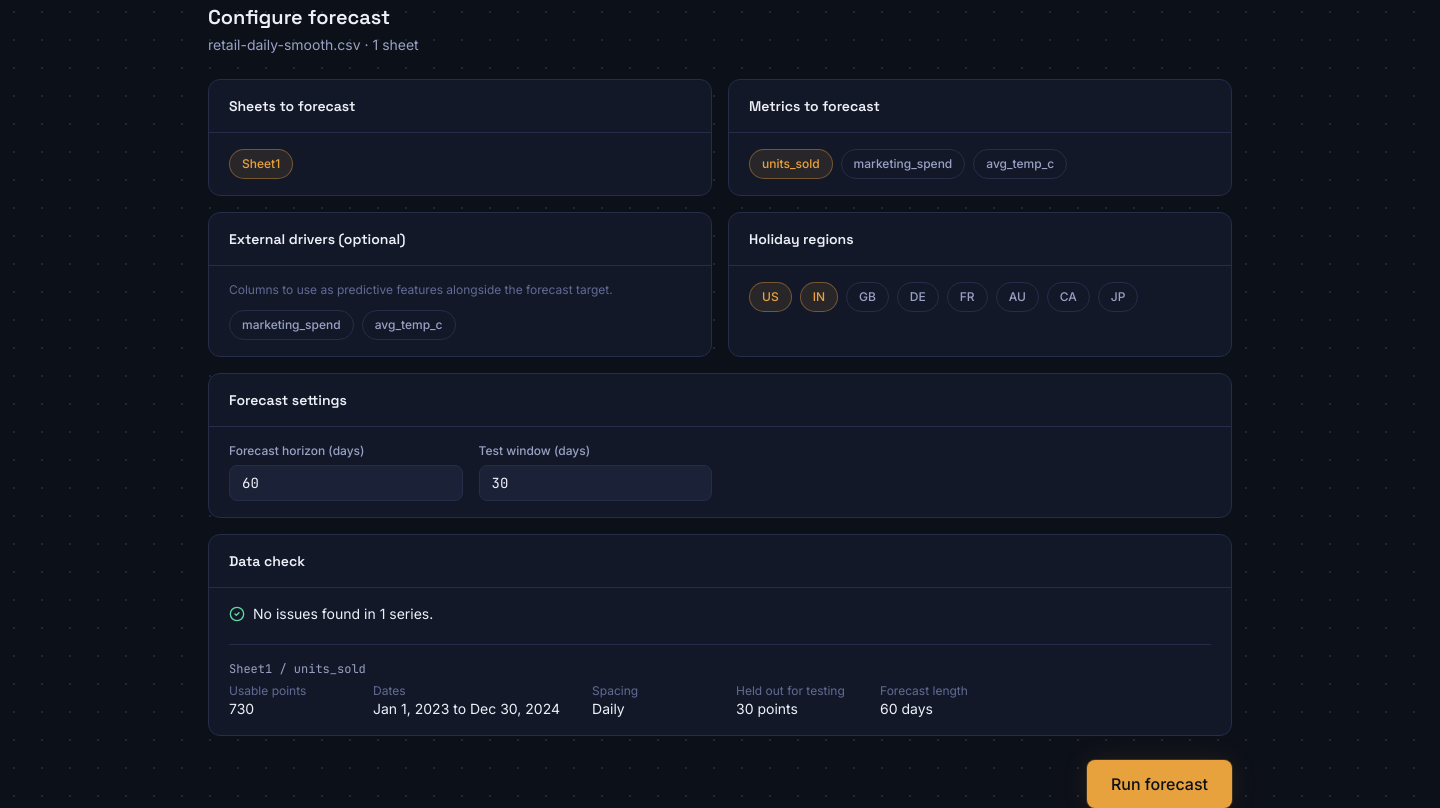
ConfigurePage data check › shows the report from a refused submit
(page scrolled)
Expected: the text "No issues found in 1 series." is shown, [229,605,433,622]
Click the button "Run forecast" at (1160, 784), box [1087,760,1232,807]
(page scrolled)
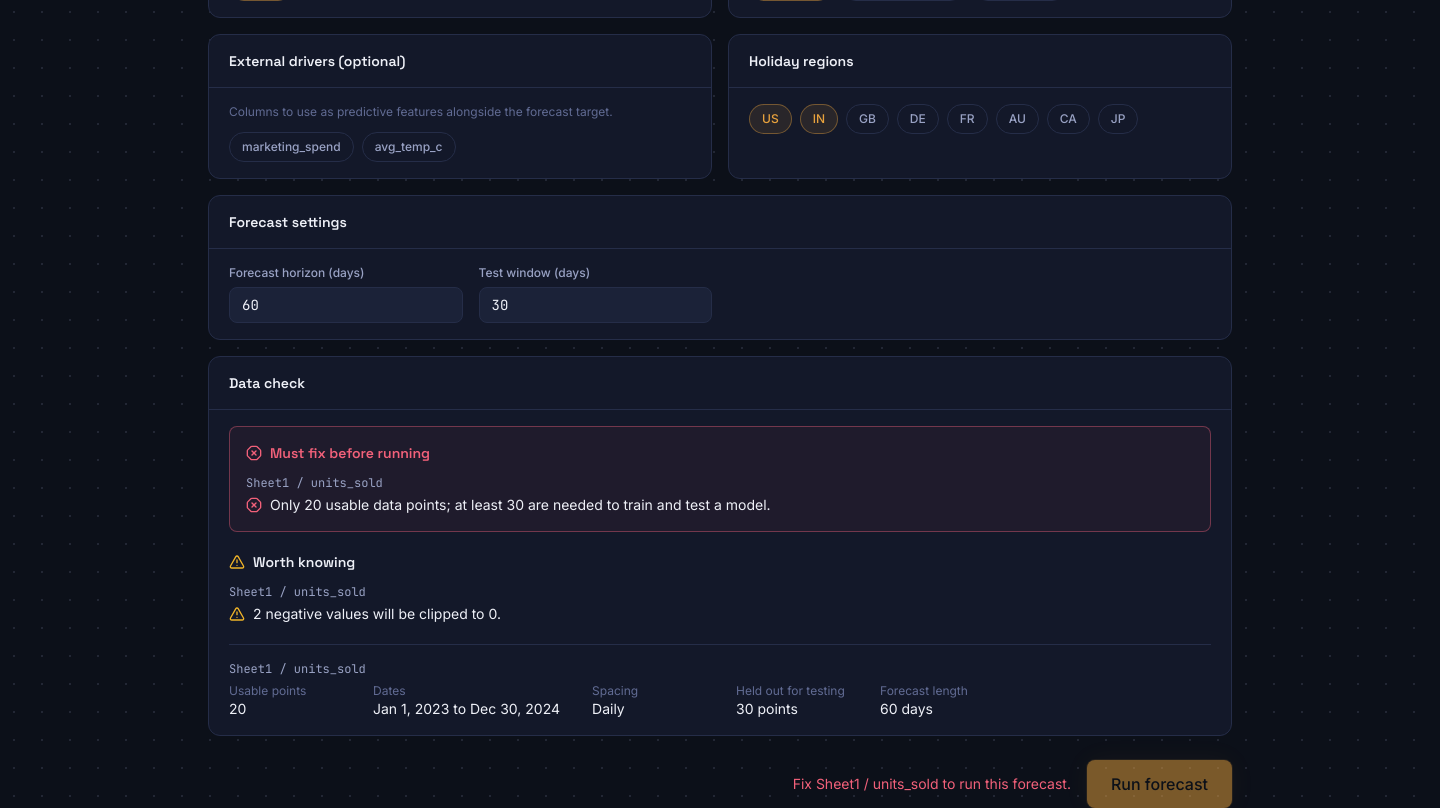
Expected: the heading "Must fix before running" is shown, [246,444,430,462]
Expected: the button "Run forecast" is disabled, [1087,760,1232,807]
